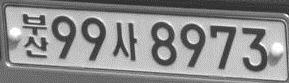3: (241, 27, 268, 73)
7: (209, 25, 237, 69)
8: (150, 20, 177, 67)
9: (179, 22, 206, 67), (50, 15, 76, 59), (80, 17, 106, 61)
부산_V: (22, 13, 49, 59)
사: (112, 21, 138, 61)
